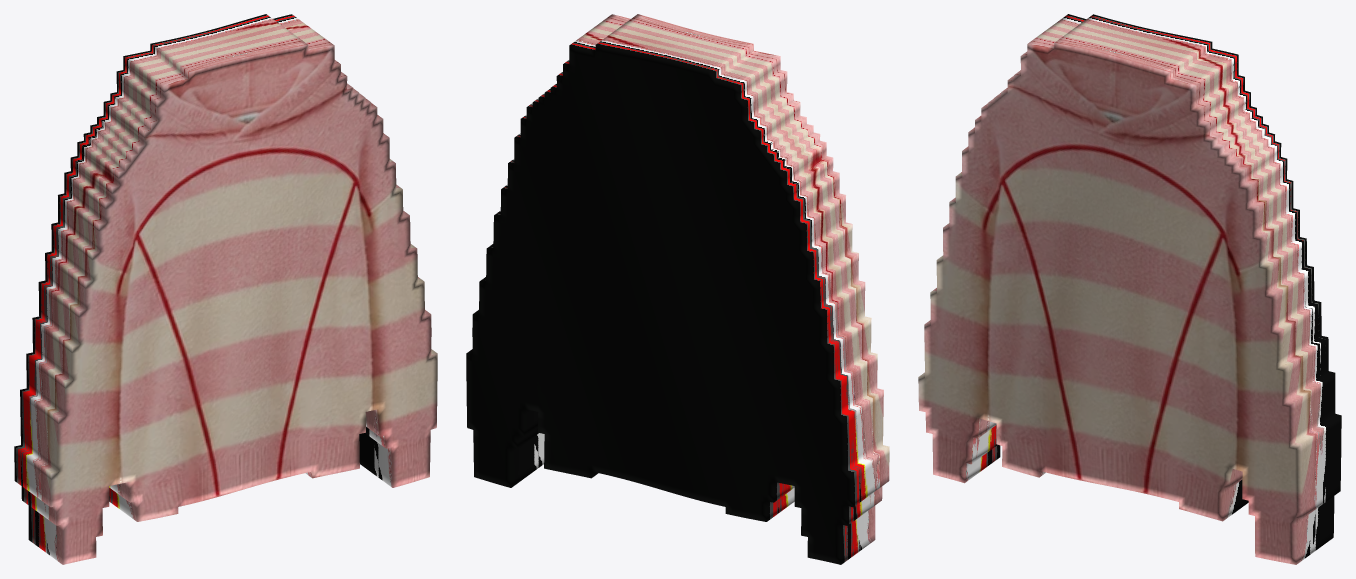
File: rail-08-stone-graphics.glb
3 renders of one model, left to right at view 1: azimuth 30°, elevation 25°; view 2: azimuth 150°, elevation 25°; view 3: azimuth 330°, elevation 25°, orthographic.
Visible parts, largest first — view 1: 08-stone-graphics-cutout; view 2: 08-stone-graphics-cutout; view 3: 08-stone-graphics-cutout.
Part boxes in pixels (bbox=[...]): 08-stone-graphics-cutout: bbox=[14, 14, 437, 564]; 08-stone-graphics-cutout: bbox=[466, 14, 889, 564]; 08-stone-graphics-cutout: bbox=[918, 14, 1341, 564].
Bounding box in the file's own units: 0.531 × 0.612 × 0.104.
Materials: 1 (1 with a texture image).
